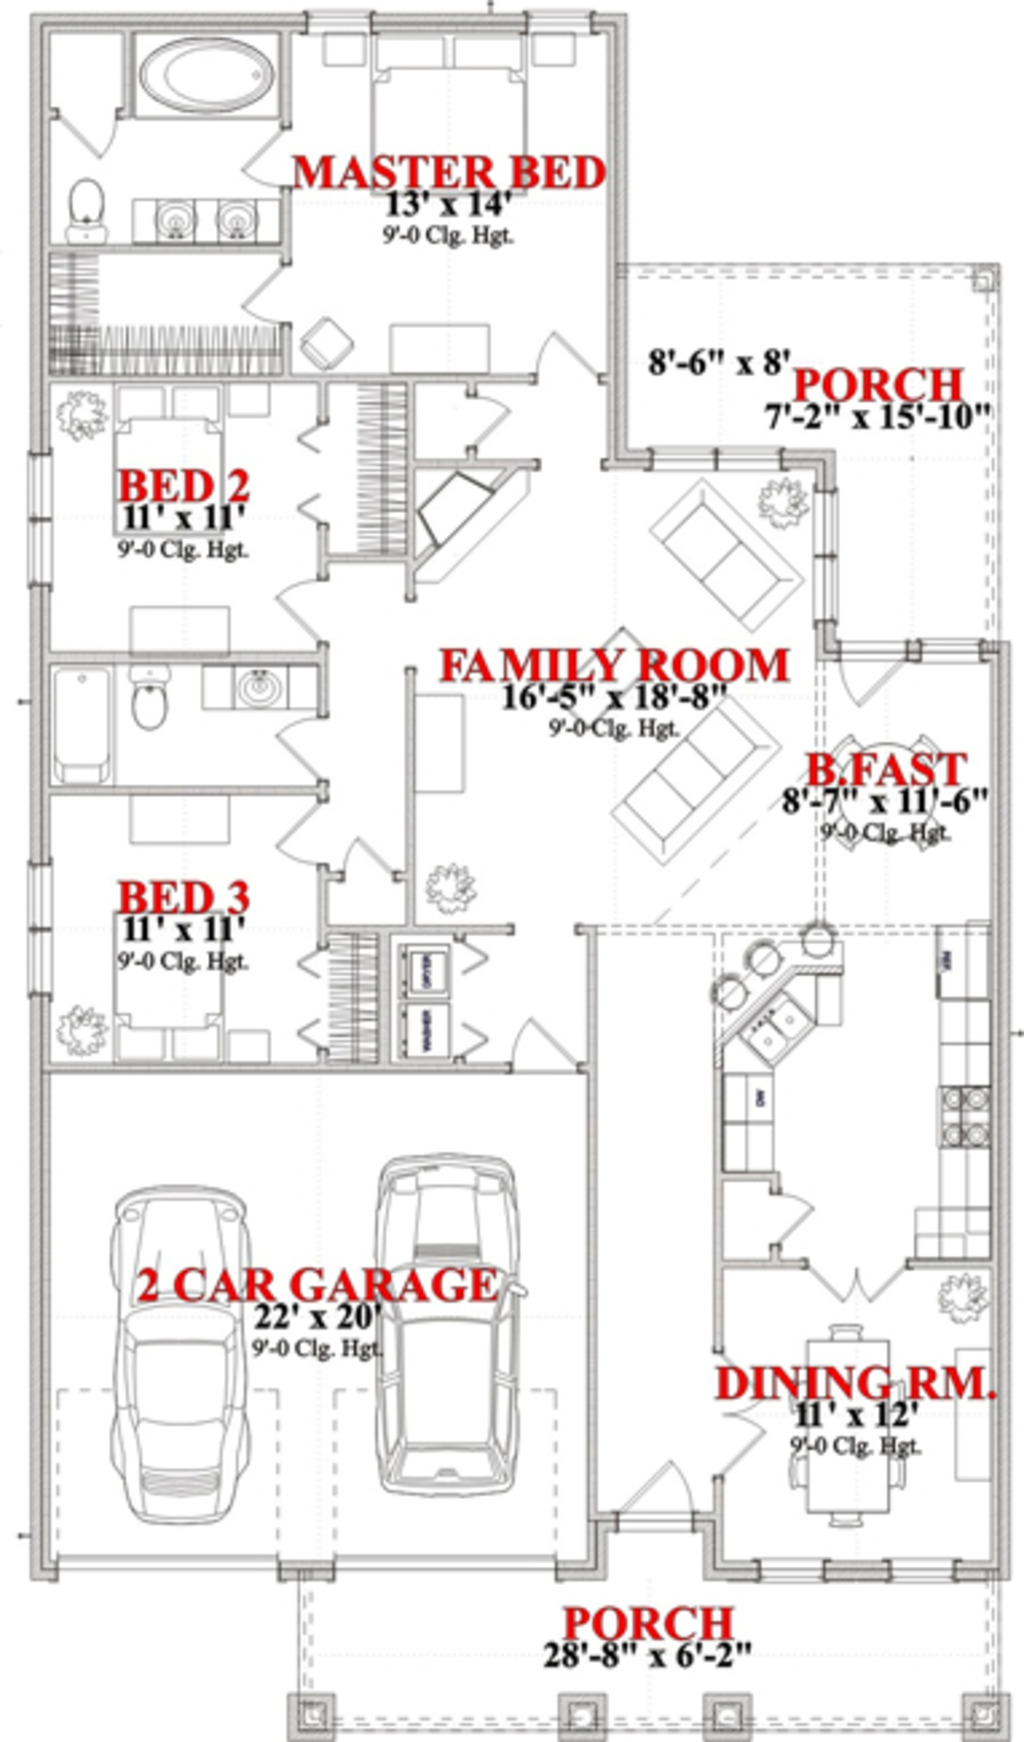bed: (76, 371, 258, 553), (102, 873, 258, 1073), (371, 17, 538, 200)
dining_table: (778, 1299, 929, 1530)
door: (788, 1239, 934, 1306), (586, 1446, 705, 1525), (709, 1341, 778, 1473), (727, 1176, 824, 1246), (258, 703, 343, 784), (45, 108, 156, 168), (236, 254, 315, 330), (269, 564, 345, 644), (276, 795, 345, 879), (247, 122, 321, 195), (529, 327, 607, 390), (502, 1011, 583, 1065), (460, 379, 513, 449), (336, 836, 399, 873)
large_sink: (48, 157, 132, 252), (110, 657, 180, 733)
large_sofa: (605, 674, 786, 909), (640, 482, 813, 646)
round_table: (813, 722, 991, 884)
small_sink: (129, 187, 288, 244), (207, 659, 340, 719)
tub: (121, 30, 318, 141), (56, 663, 126, 795)
twin_sink: (727, 992, 845, 1081)
